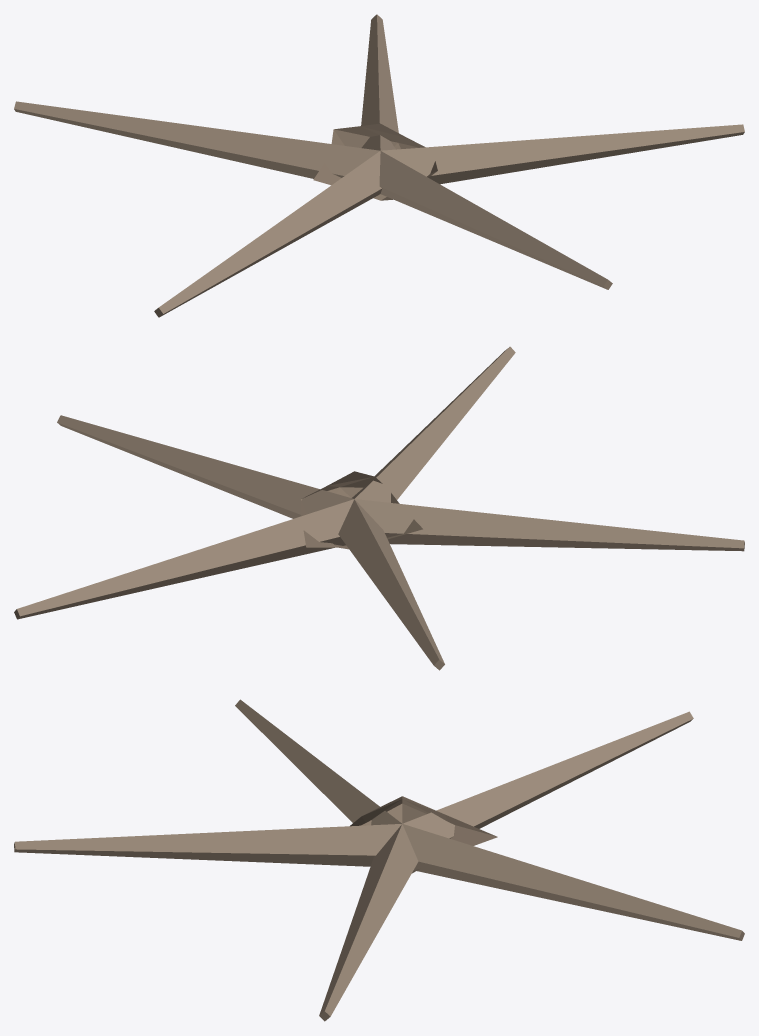
3 renders of one model, top to bottom at view 1: azimuth 30°, elevation 25°; view 2: azimuth 150°, elevation 25°; view 3: azimuth 270°, elevation 25°, orthographic. The views are drawn at different scales.
Visible parts, largest first — view 1: lod0; view 2: lod0; view 3: lod0.
Boxes of the visible parts, box(x1,y1,x2,y2) form: lod0: box(14, 14, 744, 317); lod0: box(14, 346, 744, 670); lod0: box(14, 699, 744, 1021).
Size of what is drawn, in the model's own units: 1.52 by 0.178 by 1.5.
